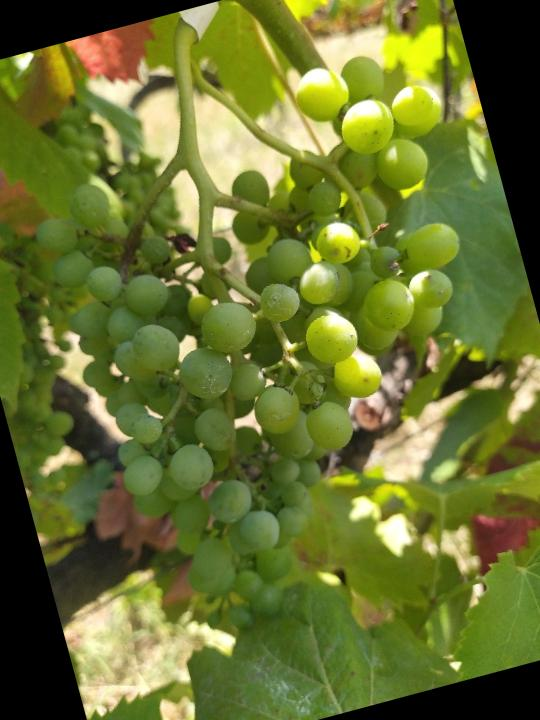grape: (13, 38, 540, 660)
